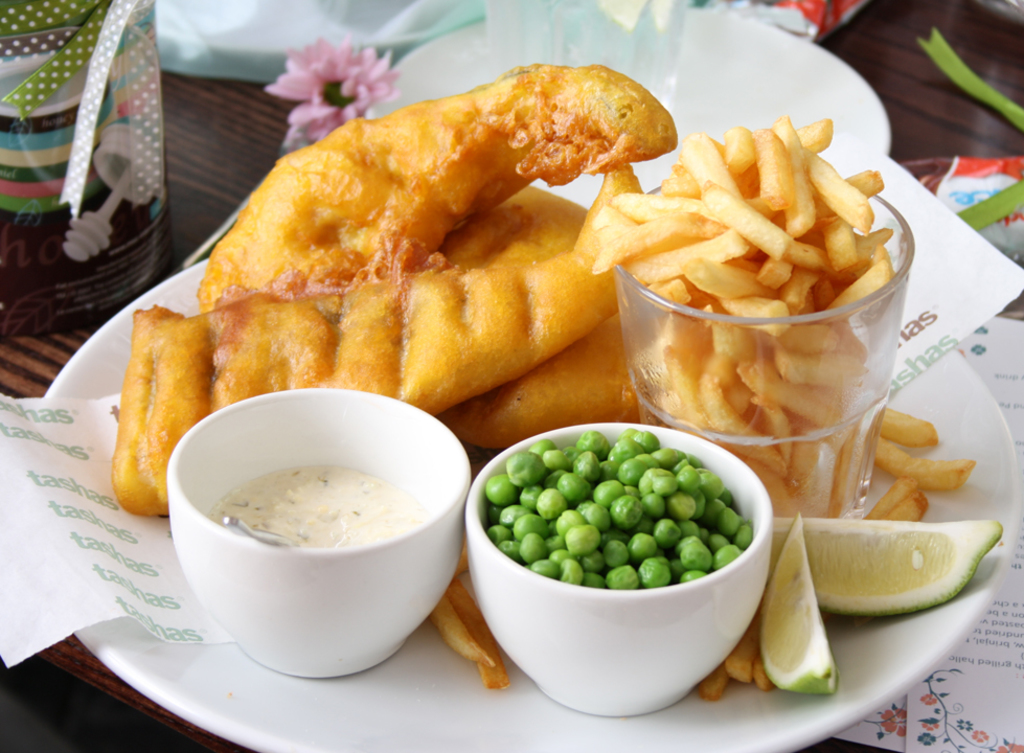French fries: (580, 105, 990, 702), (447, 581, 514, 686), (433, 602, 495, 669), (458, 535, 466, 573)
